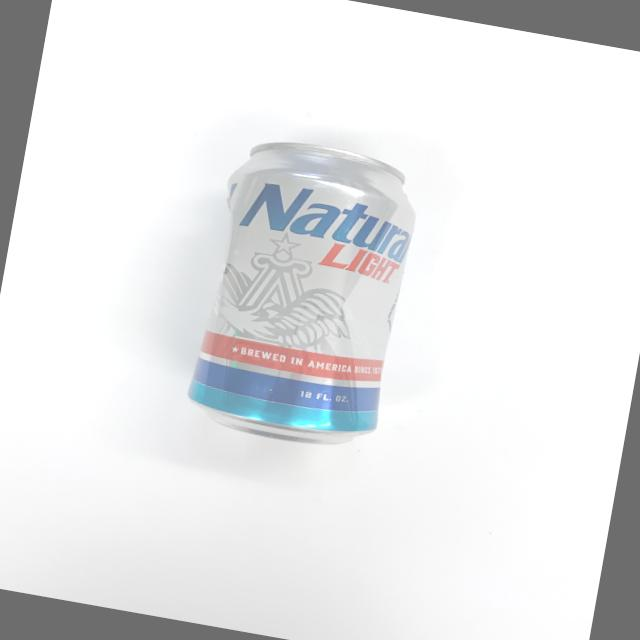Metal: (168, 116, 442, 477)
